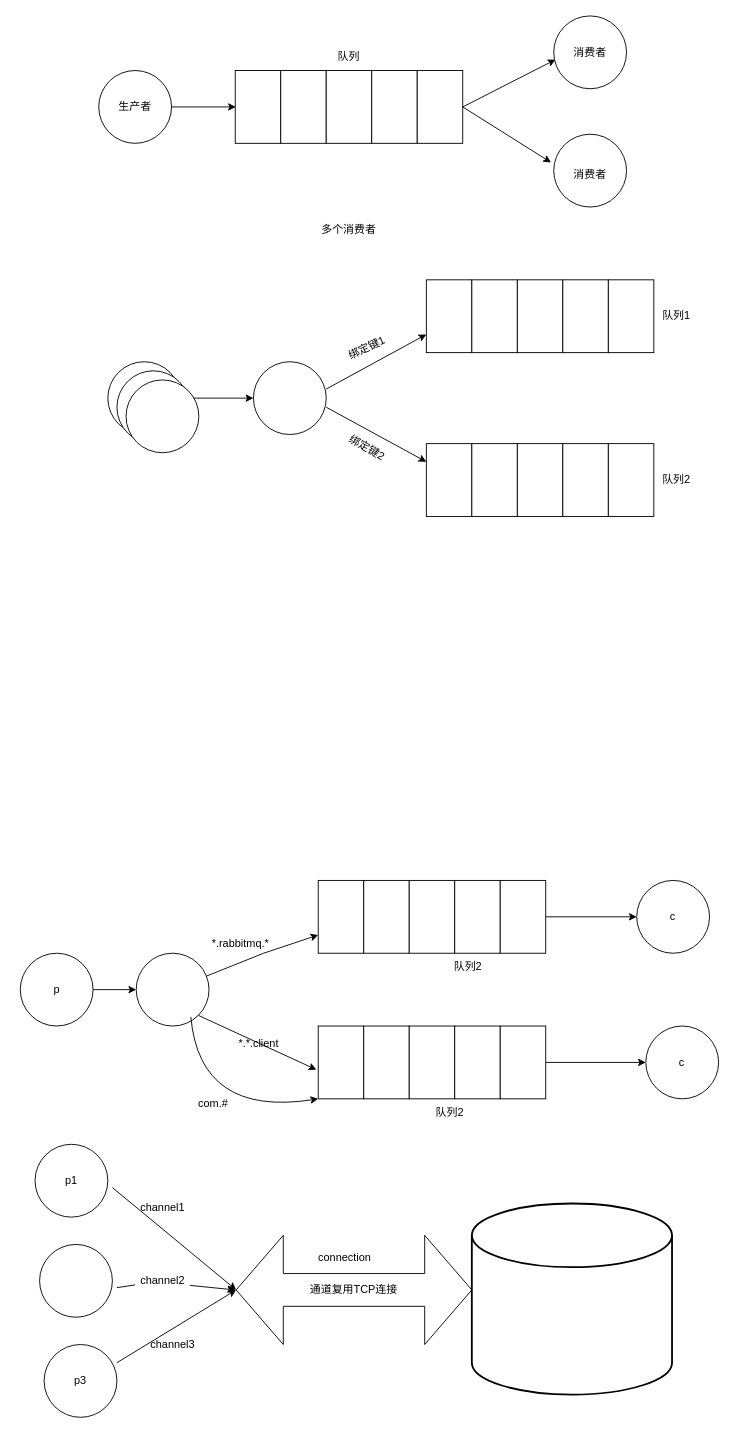
This 734x1433 diagram has some shape labels left out. Here are the shapes that lost their labels. From the top down, the centre of each, then its label:
[289,398]: 交换器
[172,989]: X"Topic"
[75,1280]: p2
[571,1298]: RabbitMQ Broker
